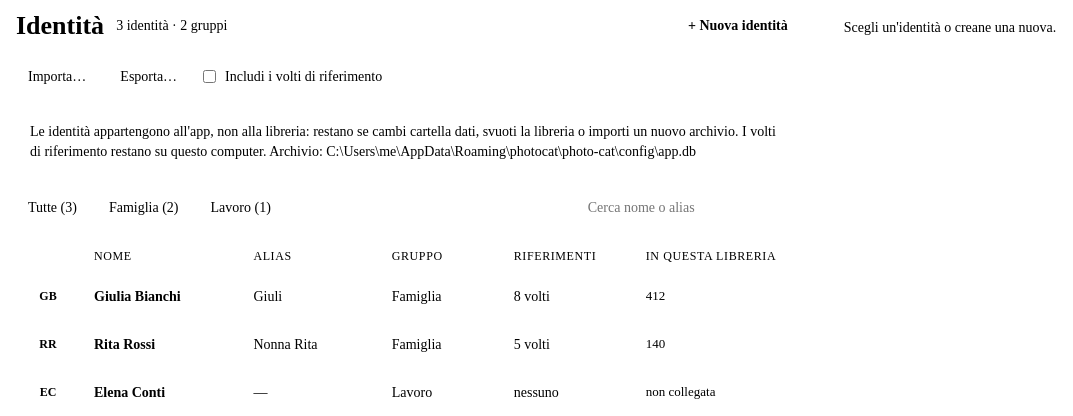
Test case: finds an identity by alias
Expected: the text "Giulia Bianchi" is shown, [94,289,181,304]
Type "Nonna Rita" into the search field labelled "Cerca nome o alias" at point(690, 208), box [580,192,800,224]
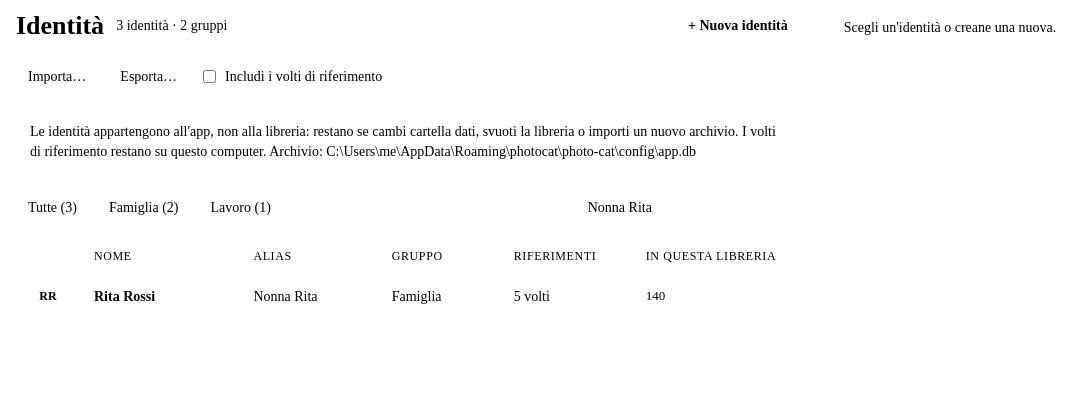
Expected: the text "Rita Rossi" is shown, [94,289,155,304]
Expected: the text "Giulia Bianchi" is gone
